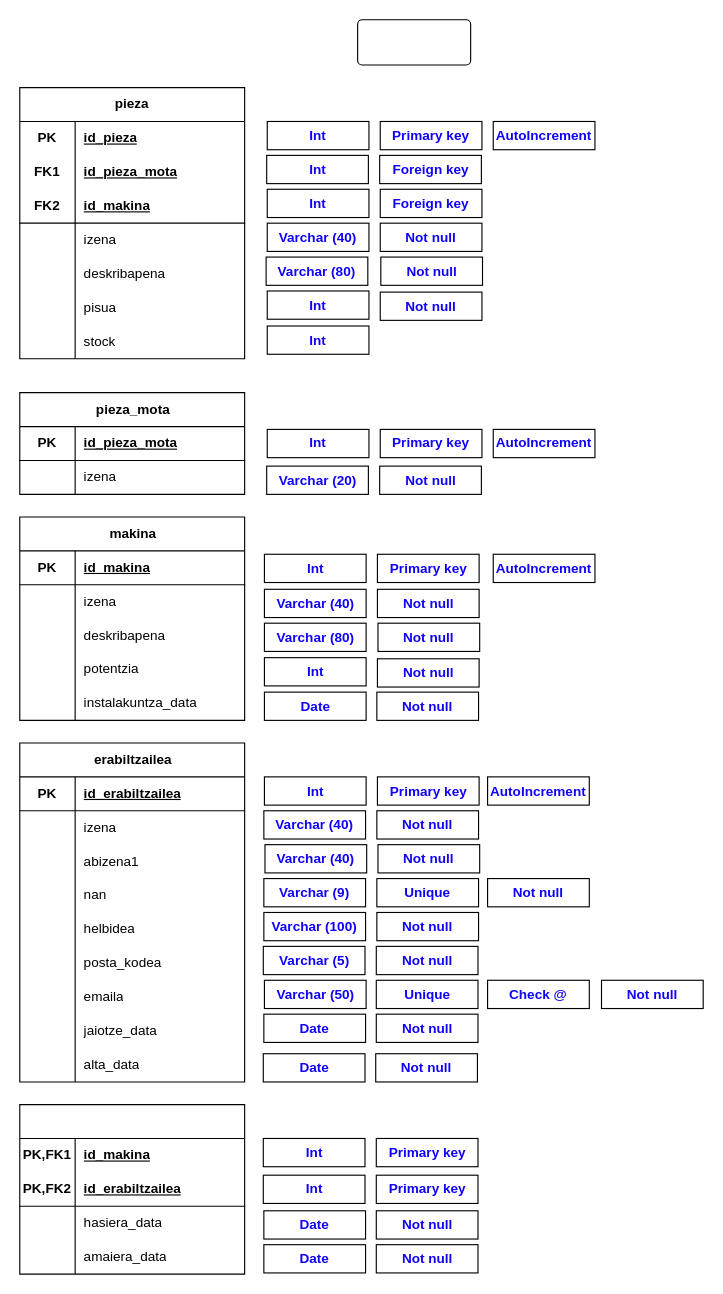
The diagram is 723 pixels wide and 1294 high, and some of its shapes have lost their labels. The box of each missing label's shape, as (x1, y1, x2, y2) in pixels:
makina_erabiltzailea: (19, 1103, 245, 1274)
maltunadb: (357, 19, 471, 65)
